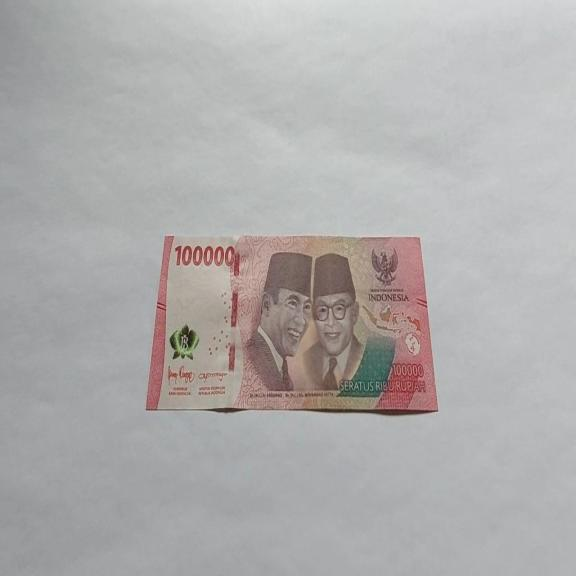Kertas: (145, 232, 439, 414), (174, 242, 235, 268)
